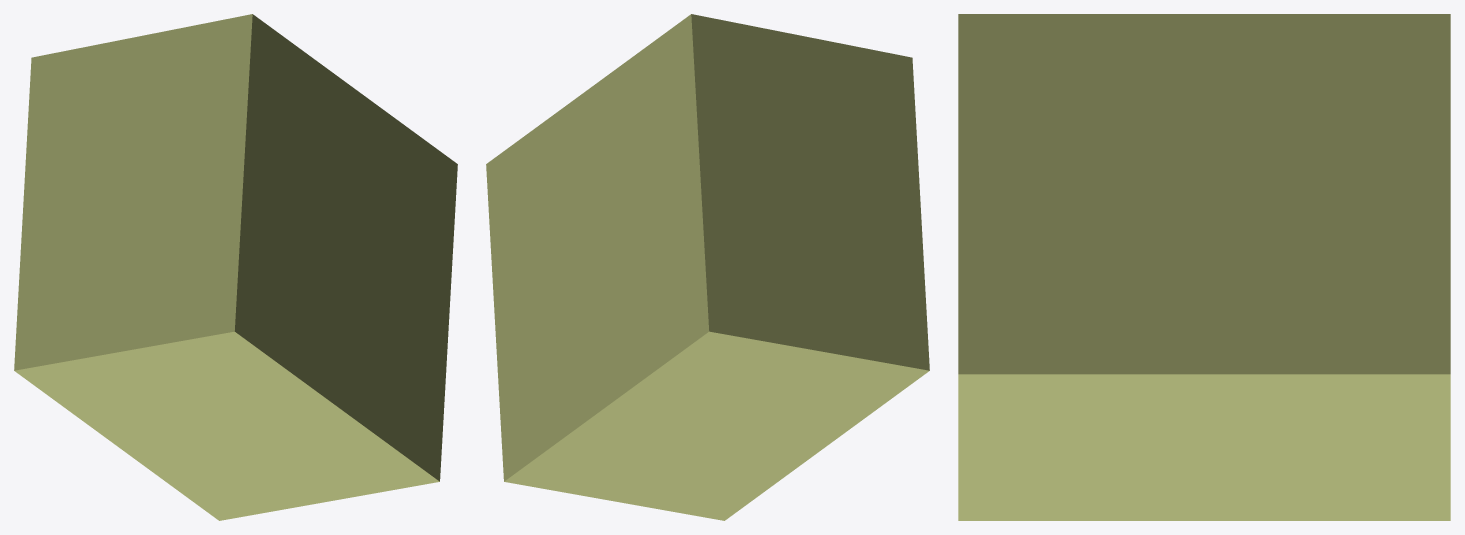
The picture shows the model from 3 angles, left to right: view 1: azimuth 30°, elevation 25°; view 2: azimuth 150°, elevation 25°; view 3: azimuth 270°, elevation 25°; orthographic projection. The views are drawn at different scales.
Visible parts, largest first — view 1: 0_0_2_0_1_1_1_0_0_1_1; view 2: 0_0_2_0_1_1_1_0_0_1_1; view 3: 0_0_2_0_1_1_1_0_0_1_1.
Part boxes in pixels (x1,y1,x2,y2): 0_0_2_0_1_1_1_0_0_1_1: [14, 14, 457, 520]; 0_0_2_0_1_1_1_0_0_1_1: [486, 14, 929, 520]; 0_0_2_0_1_1_1_0_0_1_1: [958, 14, 1450, 520].
Bounding box in the file's own units: 6.04 × 7.83 × 9.
